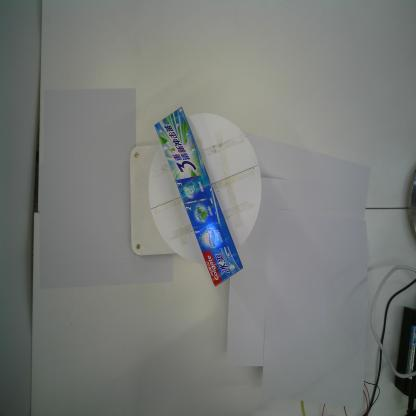Personal Hygiene: (154, 106, 243, 287)
